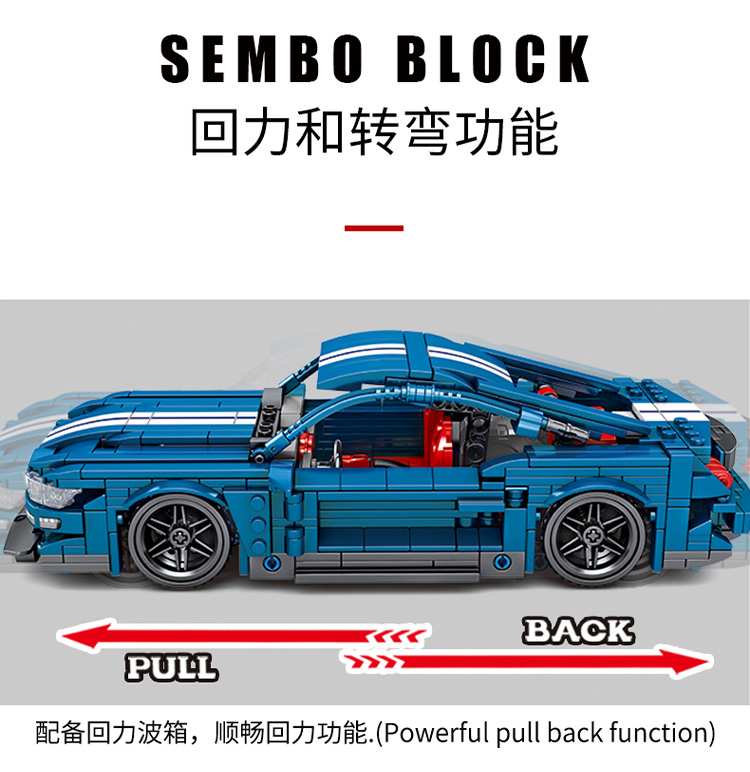Car: (3, 321, 750, 596)
